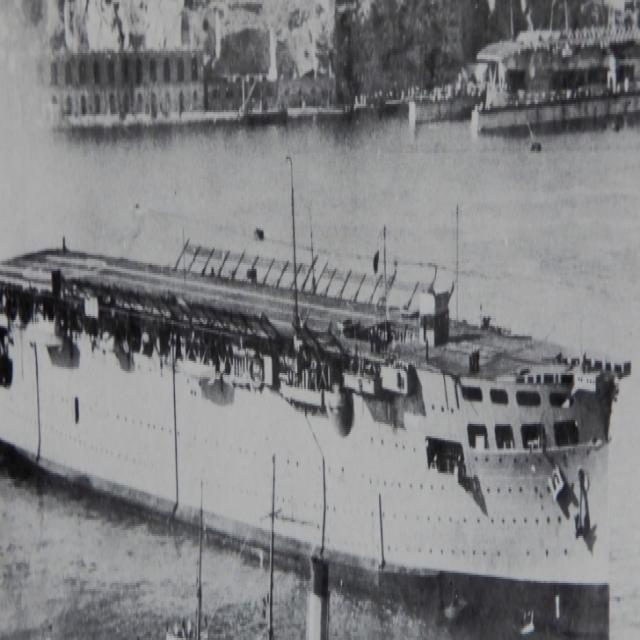Portanaves: (1, 198, 614, 640)
